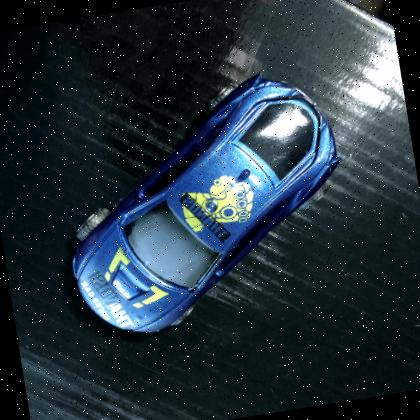Car: (39, 57, 370, 350)
